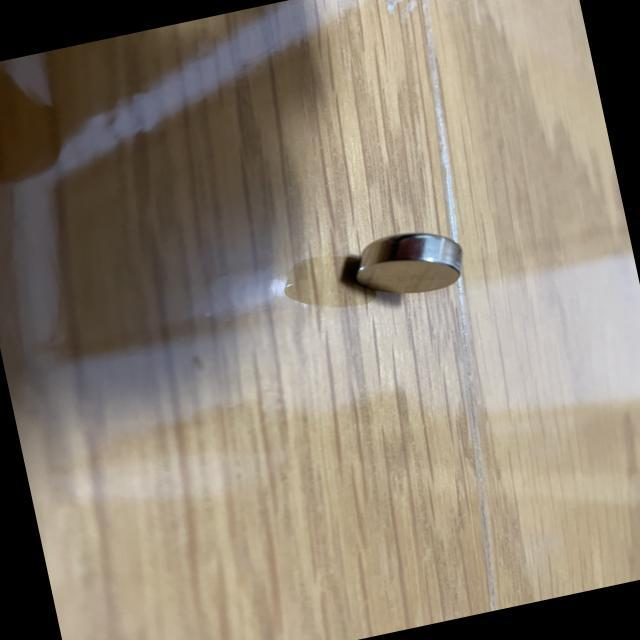COIN: (342, 222, 470, 307)
